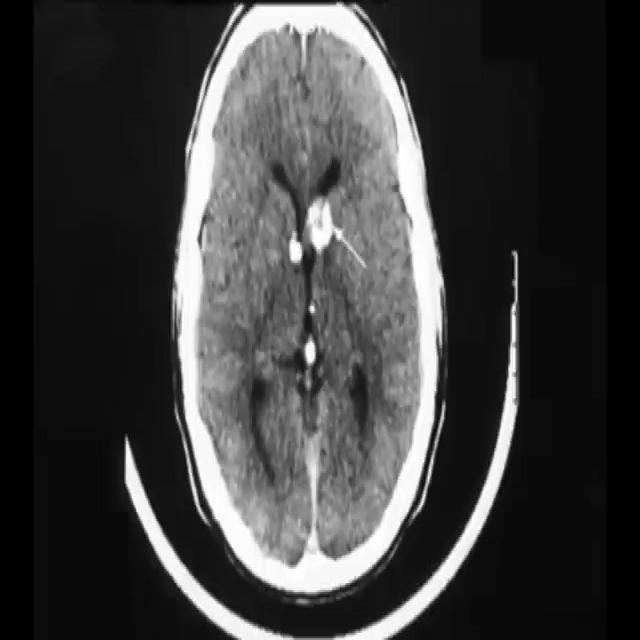tumor: (287, 146, 359, 312)
